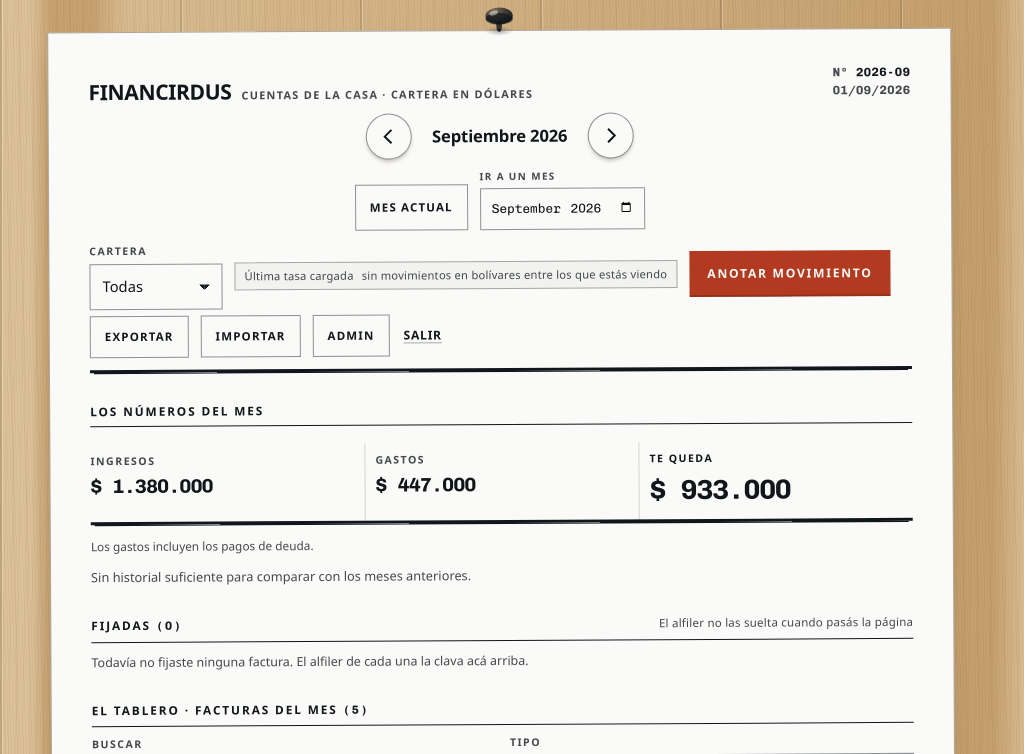
Test: Movement detail lines › validates each line and focuses the first bad one
Click the button "Anotar movimiento".
click(790, 274)  # box [689,250,891,297]
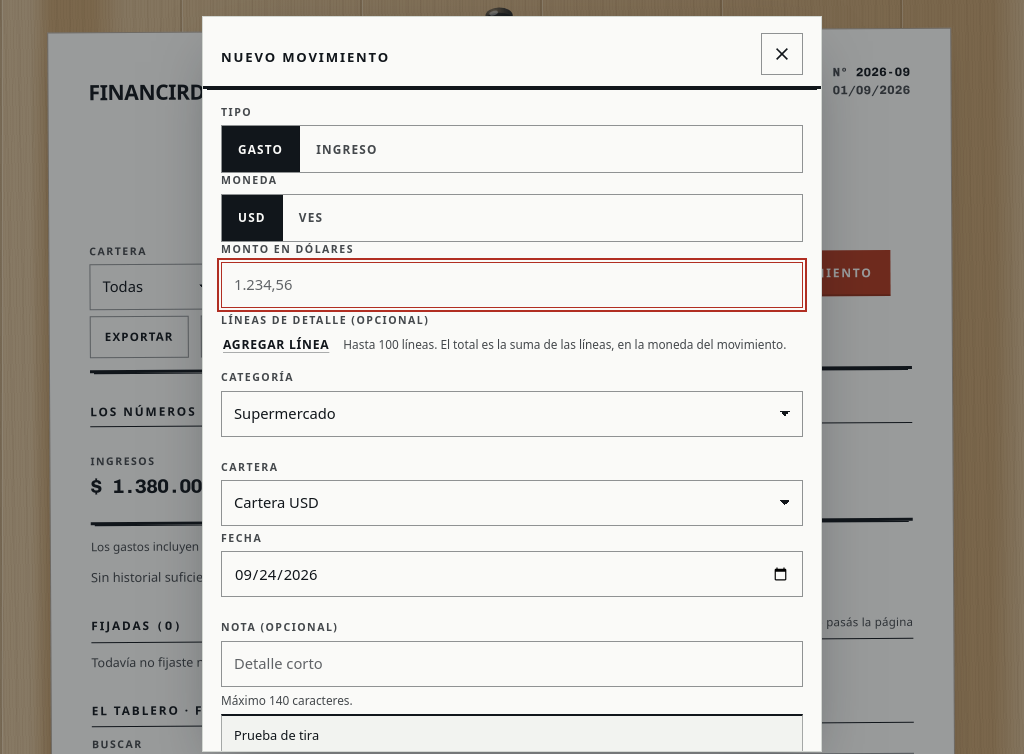
Expected: the field labelled "Monto en dólares" is shown, [221,262,803,308]
Expected: the dropdown labelled "Categoría" is not empty, [221,391,803,437]
Click the button "Agregar línea".
click(276, 345)  # box [221,328,331,362]
(page scrolled)
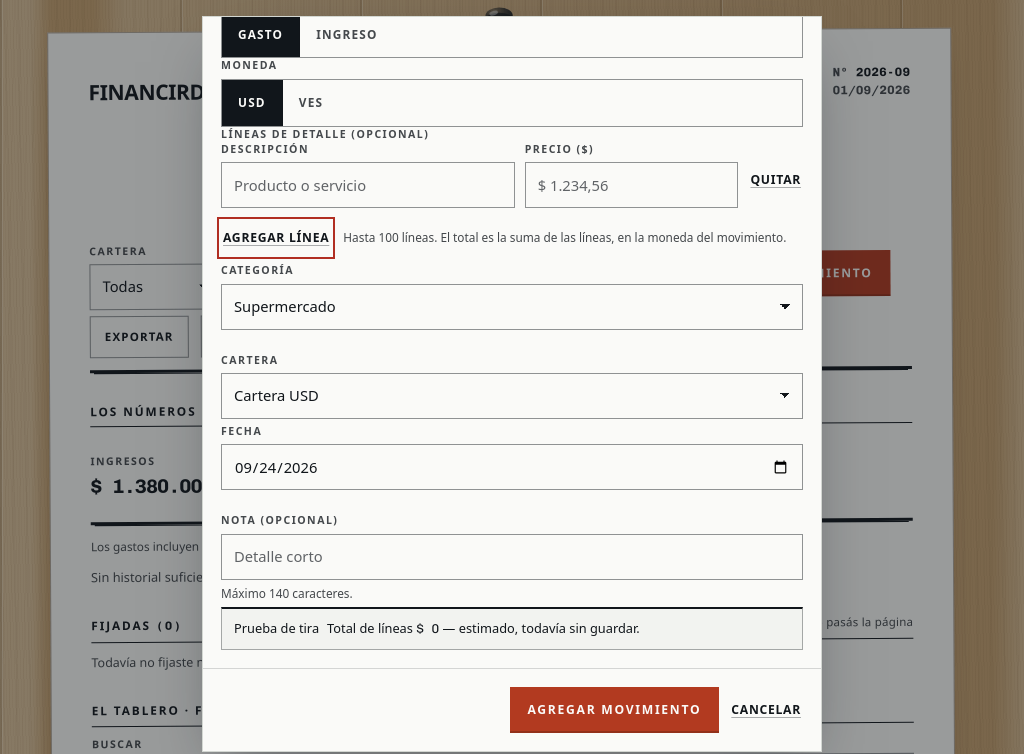
Click the button "Agregar movimiento".
click(614, 710)  # box [510,687,719,733]
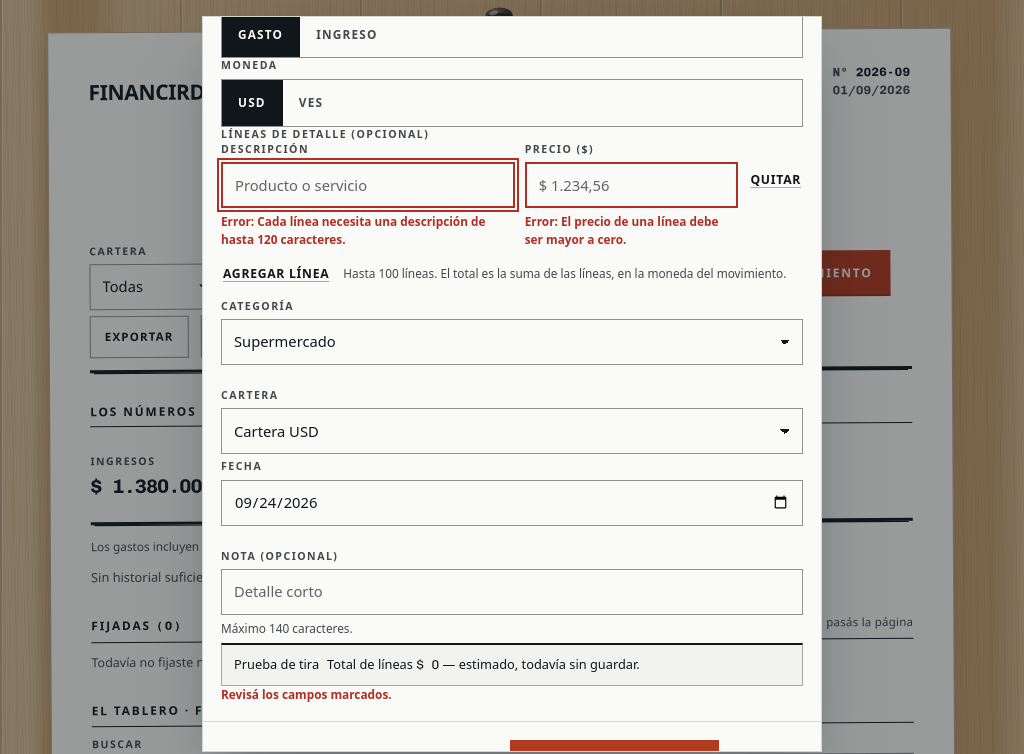
Expected: the text "Error: Cada línea necesita una descripción de hasta 120 caracteres." is shown, [221,213,515,249]
Expected: the text "Error: El precio de una línea debe ser mayor a cero." is shown, [525,213,738,249]
